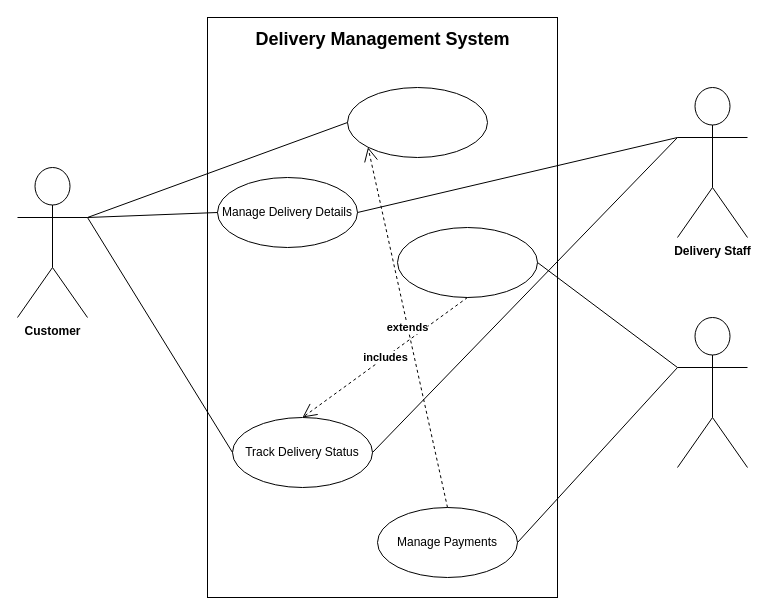
This 768x615 diagram has some shape labels left out. The centre of each missing label's shape, as x and y in pixels:
Create Delivery Order: the point at 417,122
Generate Delivery Note: the point at 467,262
System: the point at 712,392
